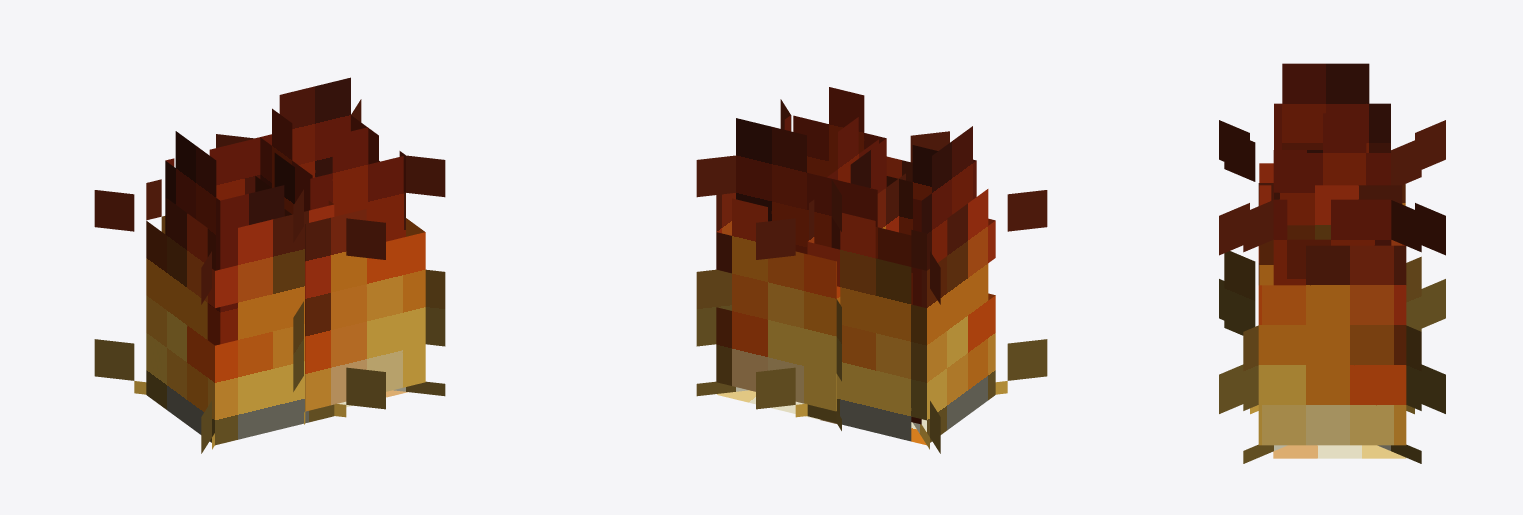
File: sl_fire_feet.glb
3 renders of one model, left to right at view 1: azimuth 30°, elevation 25°; view 2: azimuth 150°, elevation 25°; view 3: azimuth 270°, elevation 25°, orthographic. The views are drawn at different scales.
Parts seen in each view (by area): view 1: bb_fire_feet; view 2: bb_fire_feet; view 3: bb_fire_feet.
Part boxes in pixels (x1=…): bb_fire_feet: x1=94, y1=77, x2=445, y2=453; bb_fire_feet: x1=696, y1=87, x2=1047, y2=453; bb_fire_feet: x1=1219, y1=63, x2=1445, y2=463.
Bounding box in the file's own units: 0.9919 × 0.7525 × 0.7544.
1 material, 1 textured.
